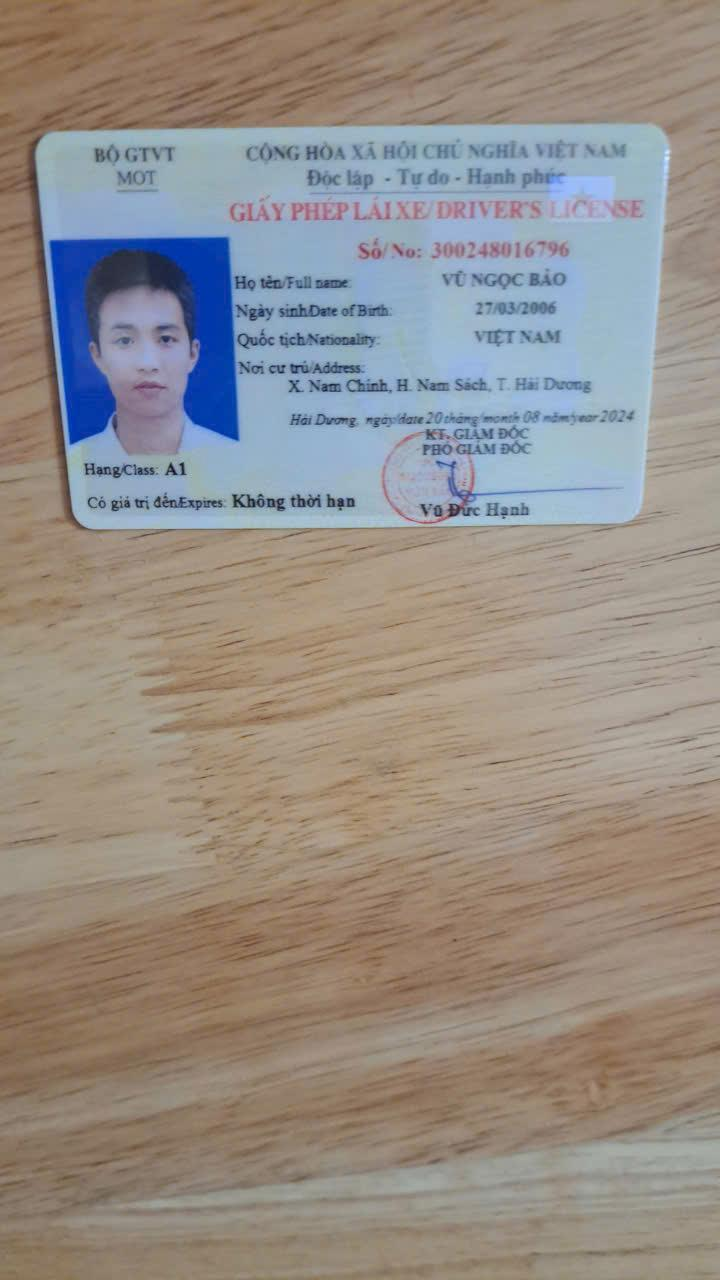gplx: (30, 113, 688, 538)
